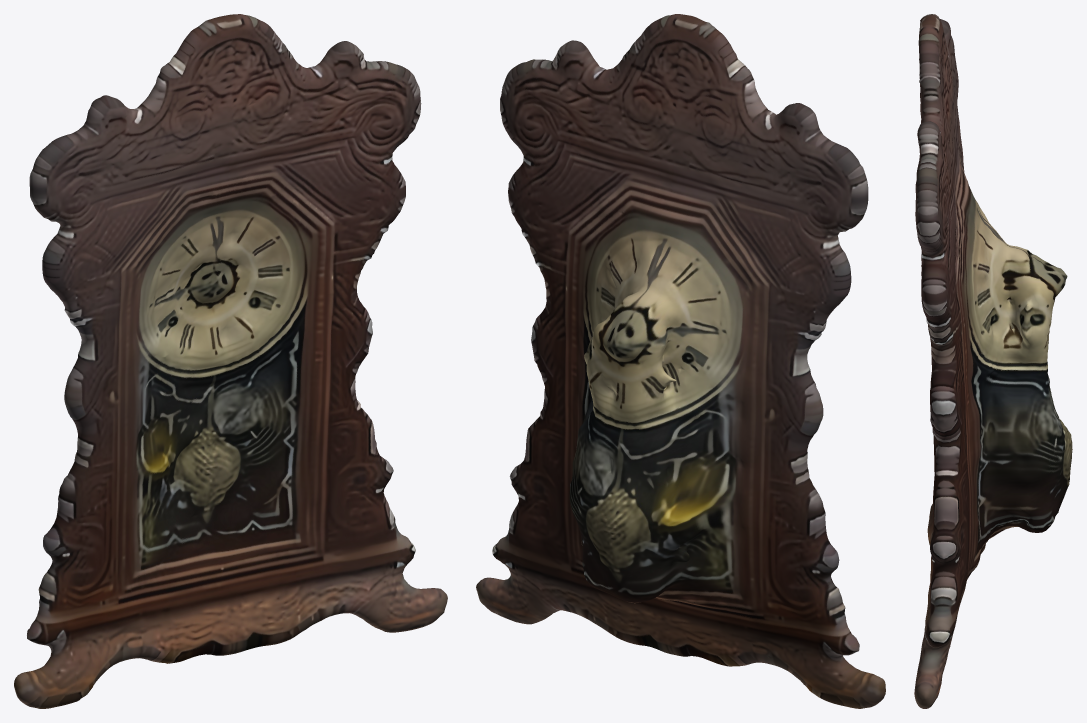
Rendered from kfl-2141.glb.
The picture shows the model from 3 angles, left to right: view 1: azimuth 30°, elevation 25°; view 2: azimuth 150°, elevation 25°; view 3: azimuth 270°, elevation 25°; orthographic projection. The views are drawn at different scales.
Parts seen in each view (by area): view 1: kfl-2141; view 2: kfl-2141; view 3: kfl-2141.
Boxes of the visible parts, x1=… form: kfl-2141: x1=14, y1=14, x2=447, y2=708; kfl-2141: x1=476, y1=14, x2=885, y2=708; kfl-2141: x1=914, y1=14, x2=1072, y2=708.
Size of the model in its own units: 0.6697 by 0.9916 by 0.2365.
1 material, 1 textured.
